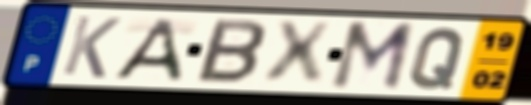A: (108, 16, 184, 83)
B: (192, 17, 269, 86)
K: (58, 13, 124, 81)
M: (326, 20, 419, 94)
Q: (406, 26, 469, 91)
X: (261, 20, 336, 88)
